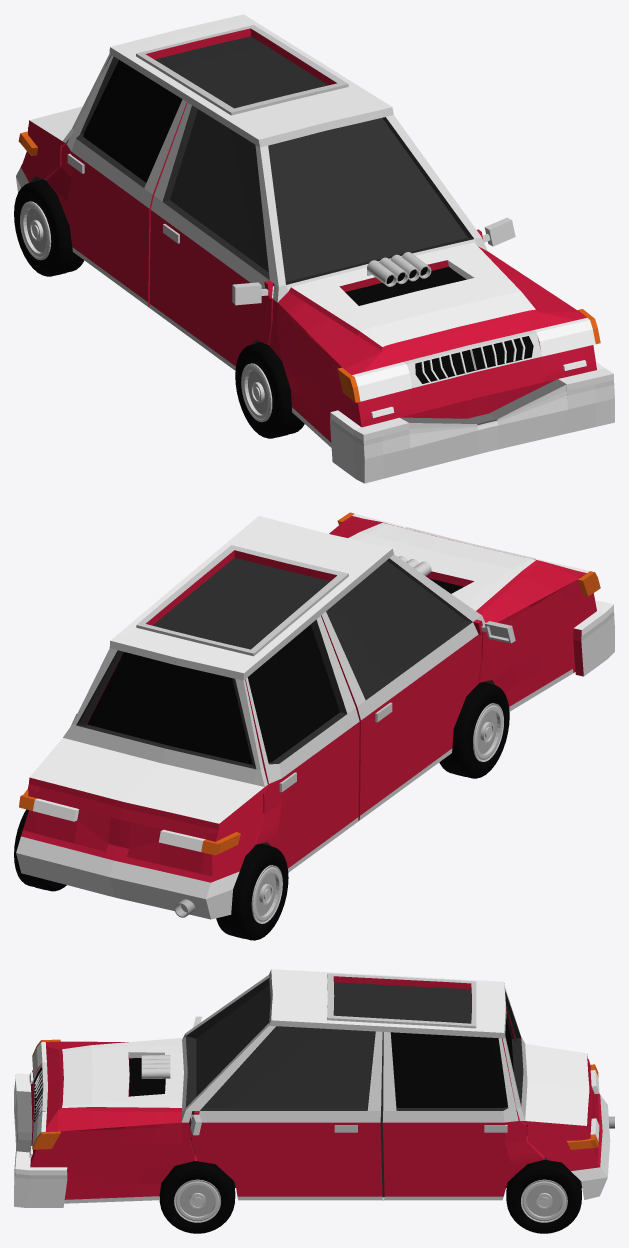
Rendered from CR-CAR-4B.fbx.
3 renders of one model, top to bottom at view 1: azimuth 30°, elevation 25°; view 2: azimuth 150°, elevation 25°; view 3: azimuth 270°, elevation 25°, orthographic. The views are drawn at different scales.
Parts seen in each view (by area): view 1: BODY, WHEEL.004, WHEEL.001; view 2: BODY, WHEEL.004, WHEEL.001, WHEEL.002; view 3: BODY, WHEEL.002, WHEEL.003.
Part boxes in pixels (left/top/right/bottom): BODY: left=16, top=14, right=614, bottom=483; WHEEL.004: left=14, top=179, right=84, bottom=276; WHEEL.001: left=235, top=342, right=304, bottom=438; BODY: left=16, top=512, right=614, bottom=919; WHEEL.004: left=216, top=843, right=288, bottom=940; WHEEL.001: left=439, top=682, right=509, bottom=778; WHEEL.002: left=14, top=809, right=66, bottom=891; BODY: left=14, top=969, right=610, bottom=1207; WHEEL.002: left=506, top=1159, right=581, bottom=1233; WHEEL.003: left=159, top=1161, right=235, bottom=1233.
Size of the model in its own units: 131 by 112 by 310.
